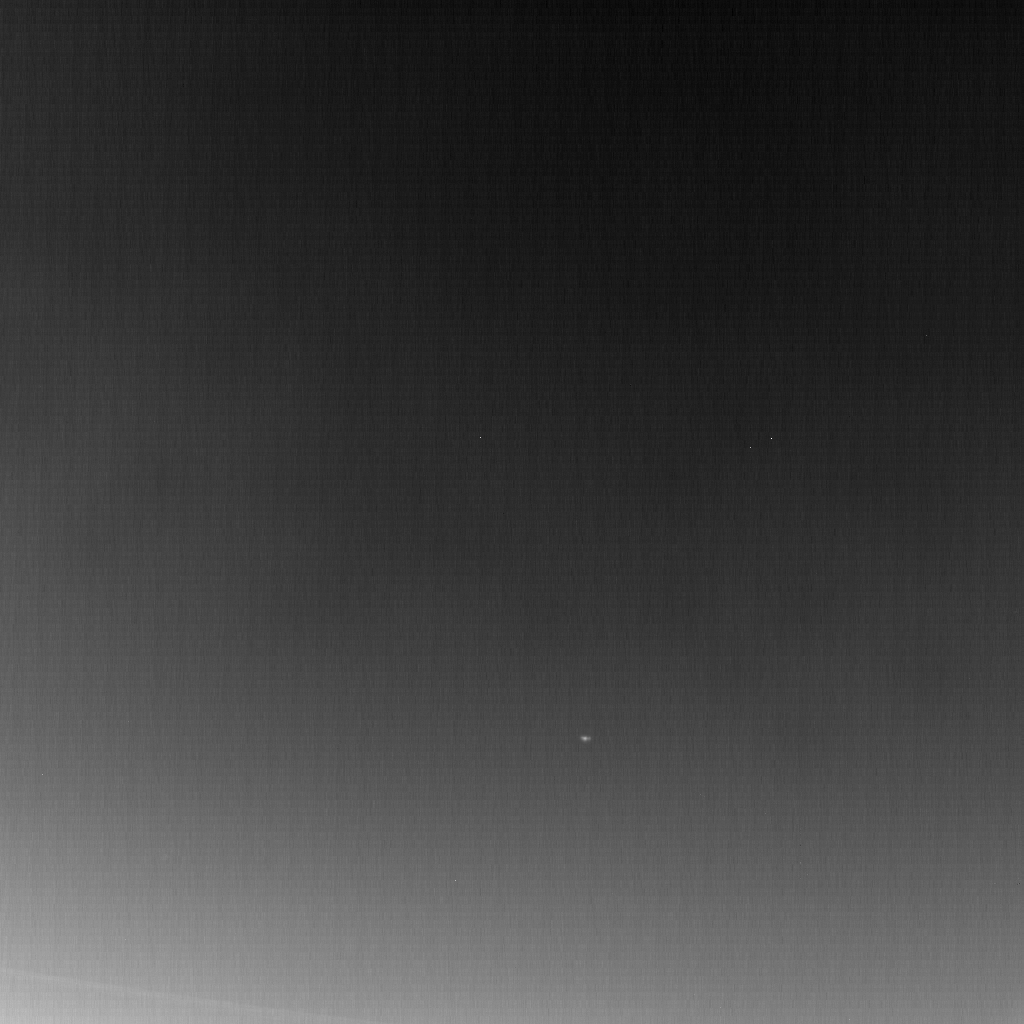Target: (581, 736, 592, 743)
